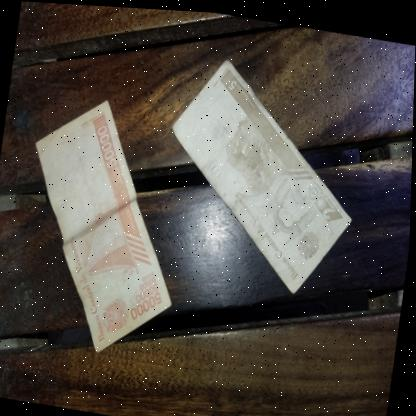five-back-vef: (152, 47, 371, 297)
